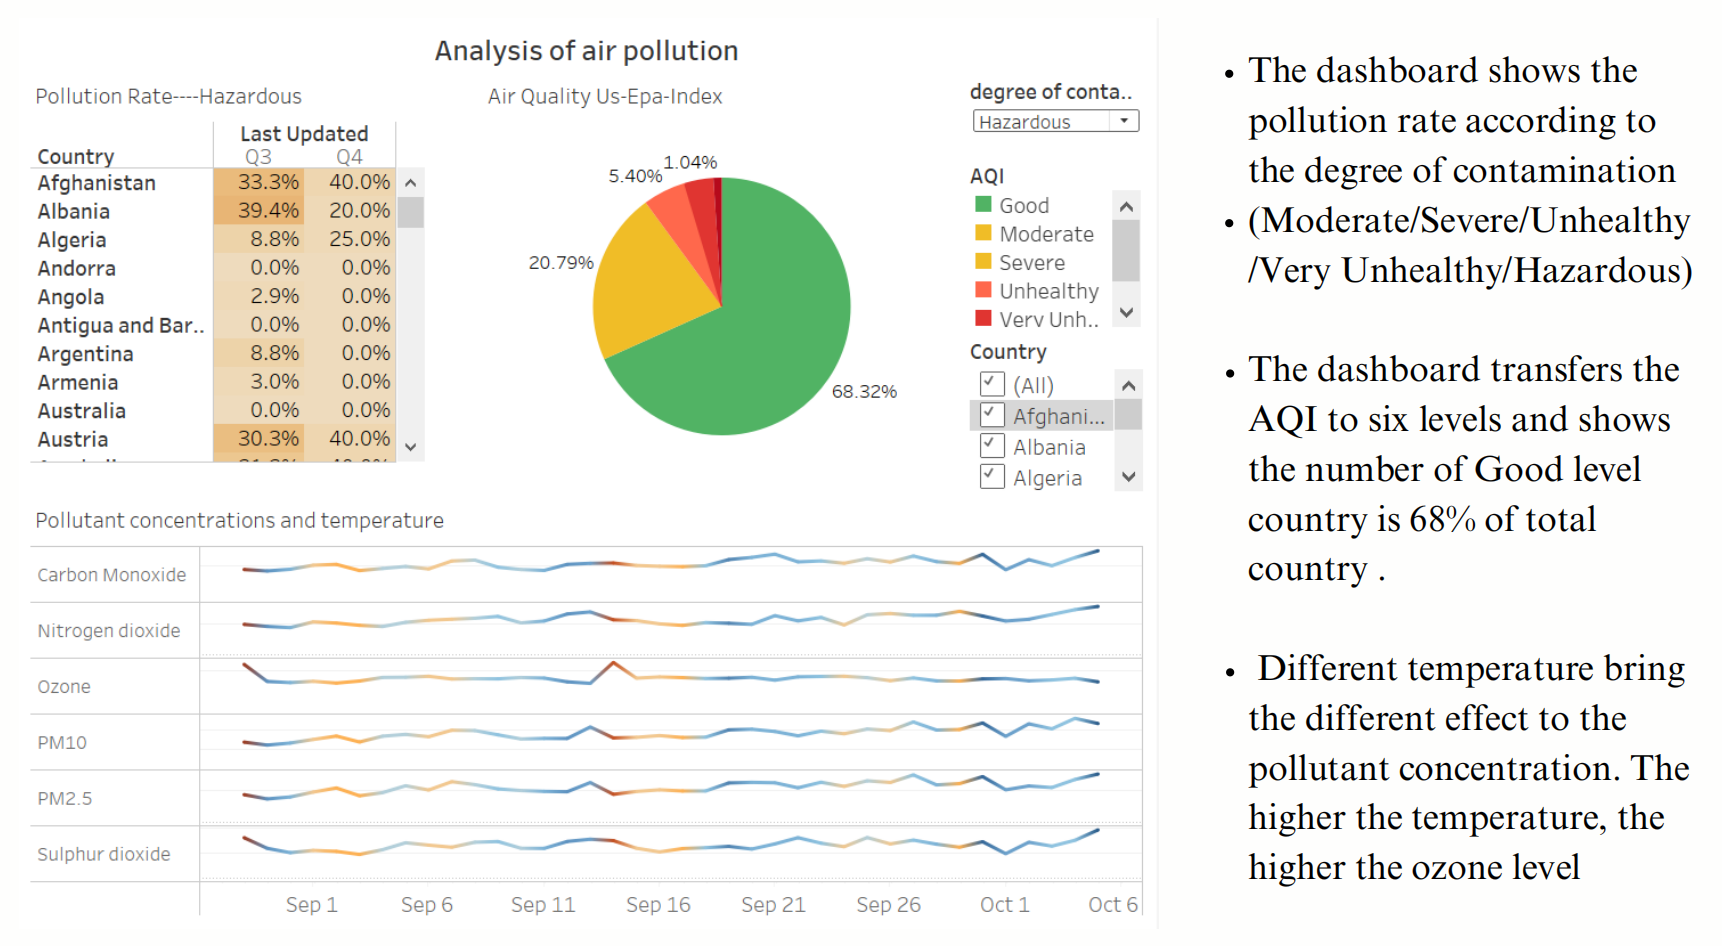

The page's visual inventory and layout, read from the dashboard file:
{"tool":"tableau","page":{"name":"Analysis of air pollution","canvas":[1000,800],"ordinal":1},"visuals":[{"type":"title","box":[8,8,984,39]},{"type":"worksheet","title":"Pollution Rate","mark":"Square","rows":["country"],"cols":["last_updated","last_updated"],"box":[8,47,397,372.5]},{"type":"worksheet","title":"AQI","mark":"Pie","box":[405,47,427,372.5]},{"type":"parameter","param":"[Parameters].[AQI Parameter]","box":[832,47,160,74]},{"type":"legend","title":"AQI","param":"[federated.0kef0cc193risa12up4x704nz458].[none:Calculation_1881378755242373123:n","box":[832,121,160,154.5]},{"type":"filter","title":"Pollutant concentrations and temperature","param":"[federated.0kef0cc193risa12up4x704nz458].[none:country:nk]","box":[832,275.5,160,144]},{"type":"worksheet","title":"Pollutant concentrations and temperature","mark":"Automatic","cols":["last_updated"],"box":[8,419.5,984,372.5]}]}

Visuals, with their boxes on the page's 1000x800 design canvas (x1, y1, x2, y2). These are canvas units, not pixel positions in the 1722x946 screenshot, which may show the page scaled, cropped or inside an application window:
title: bbox=(8, 8, 992, 47)
"Pollution Rate" worksheet (Square marks): bbox=(8, 47, 405, 420)
"AQI" worksheet (Pie marks): bbox=(405, 47, 832, 420)
parameter: bbox=(832, 47, 992, 121)
"AQI" legend: bbox=(832, 121, 992, 276)
"Pollutant concentrations and temperature" filter: bbox=(832, 276, 992, 420)
"Pollutant concentrations and temperature" worksheet: bbox=(8, 420, 992, 792)
